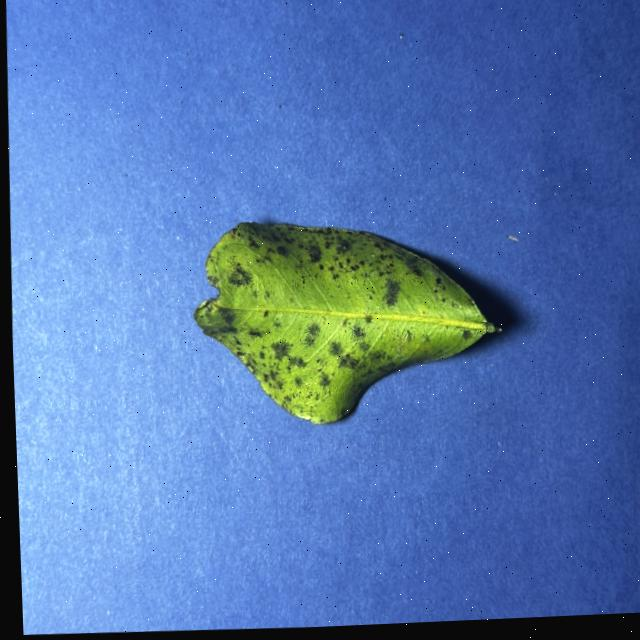sooty_mold: (194, 221, 499, 422)
